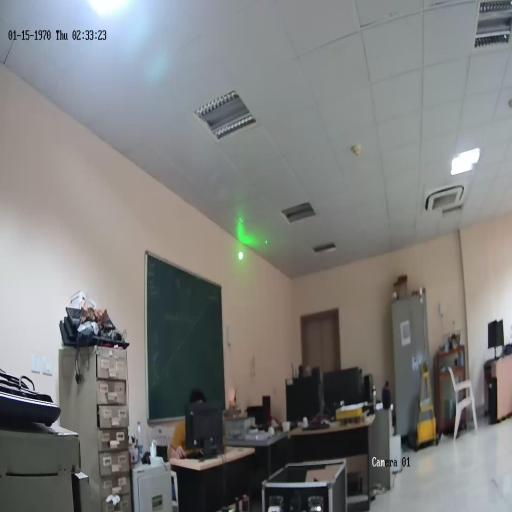laser: (237, 249, 244, 264)
